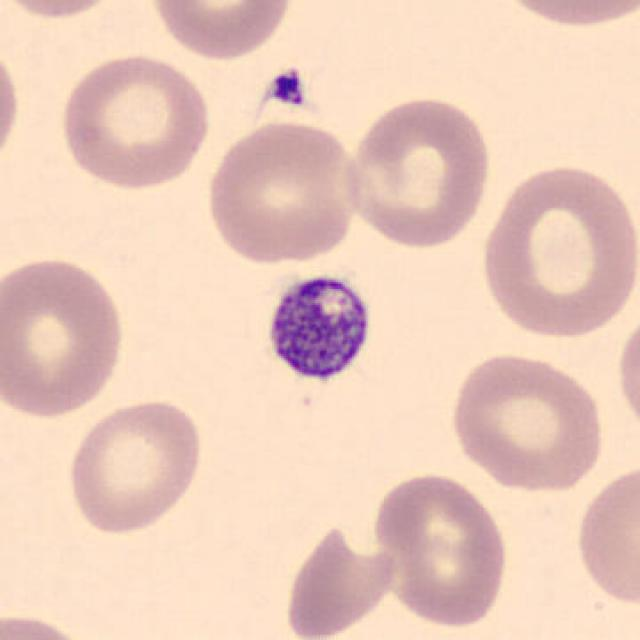Platelets: (256, 264, 380, 395), (267, 66, 309, 110)
RBC: (475, 157, 638, 342), (340, 92, 496, 250), (201, 116, 364, 266), (444, 347, 610, 494), (368, 468, 512, 630), (54, 49, 214, 192), (0, 250, 130, 422), (62, 395, 208, 538), (279, 520, 400, 640), (570, 458, 640, 609), (146, 0, 297, 62), (489, 0, 640, 32), (611, 306, 640, 442), (0, 32, 25, 178), (0, 608, 98, 640), (0, 0, 132, 21)
